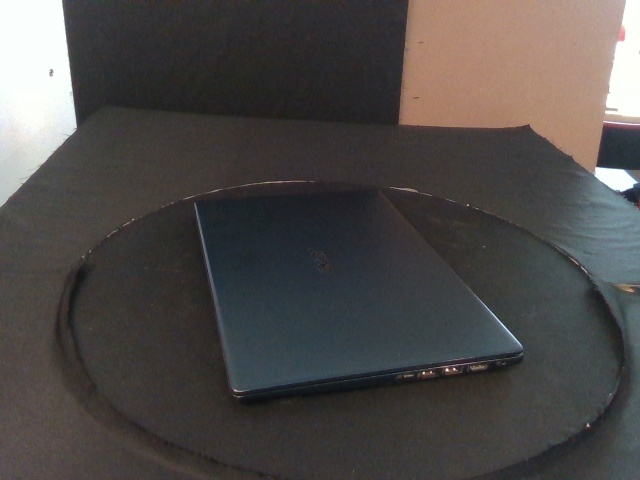laptop: (193, 188, 525, 404)
